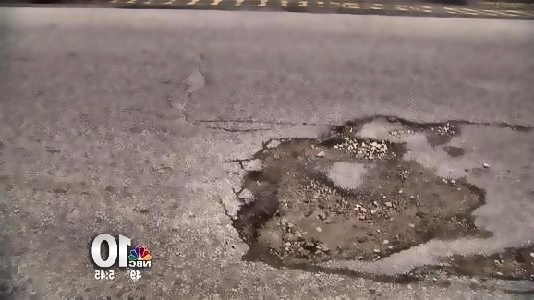pothole: (235, 115, 493, 265)
